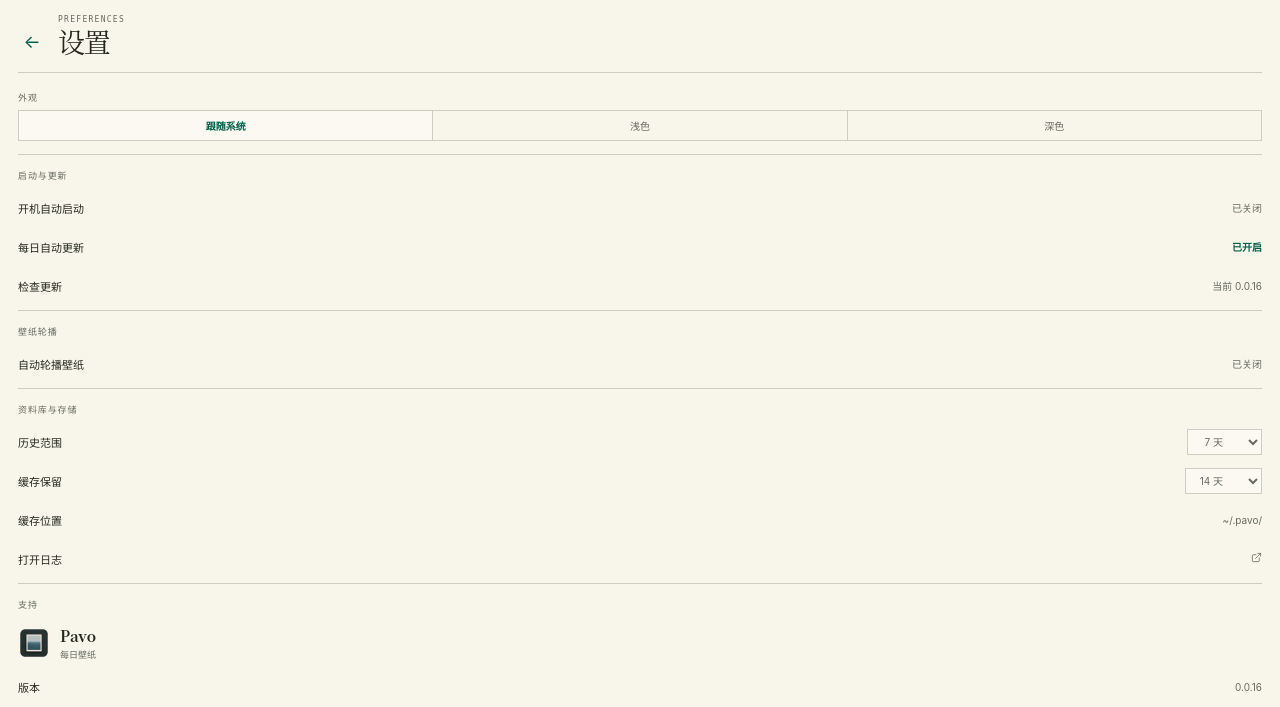
Test case: uses restrained text states and reveals rotation details only when enabled
Expected: the field labelled "切换间隔" is not shown
Step 1. Click the button "自动轮播壁纸 已关闭" → (51, 364), box [18, 344, 1262, 383]
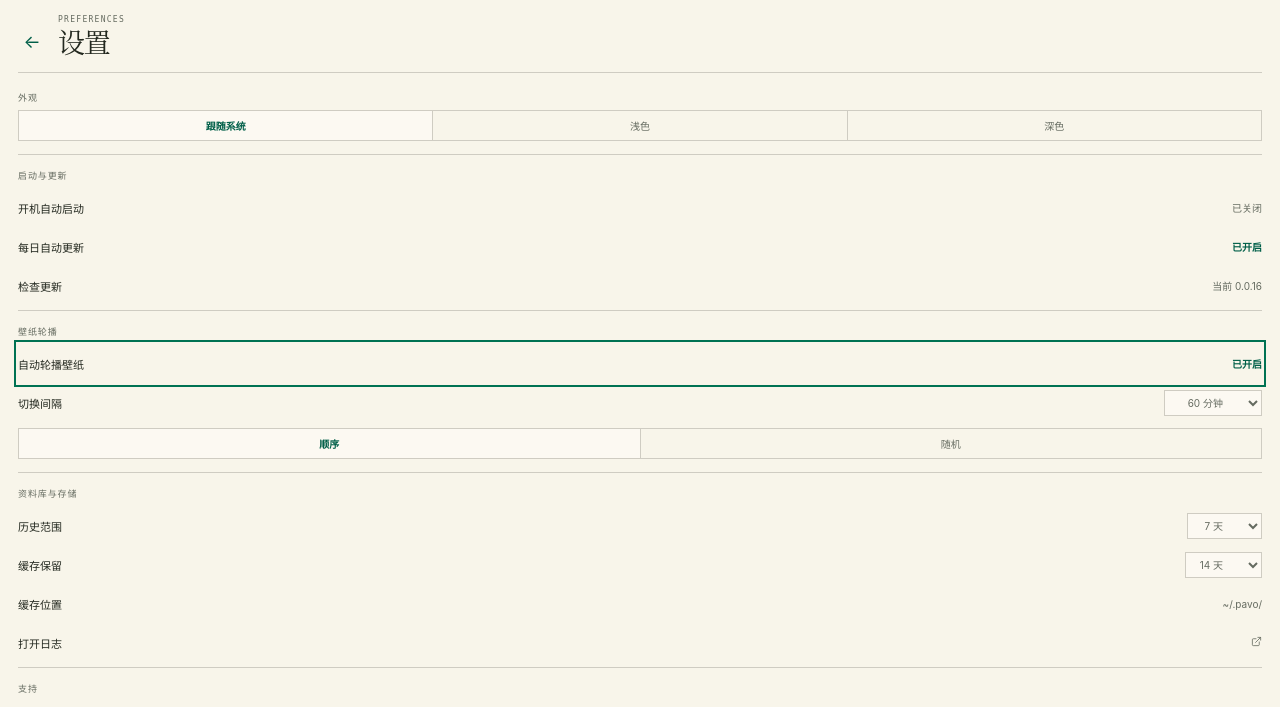
Result: the dropdown labelled "切换间隔" is shown at [1164, 390, 1262, 416]
